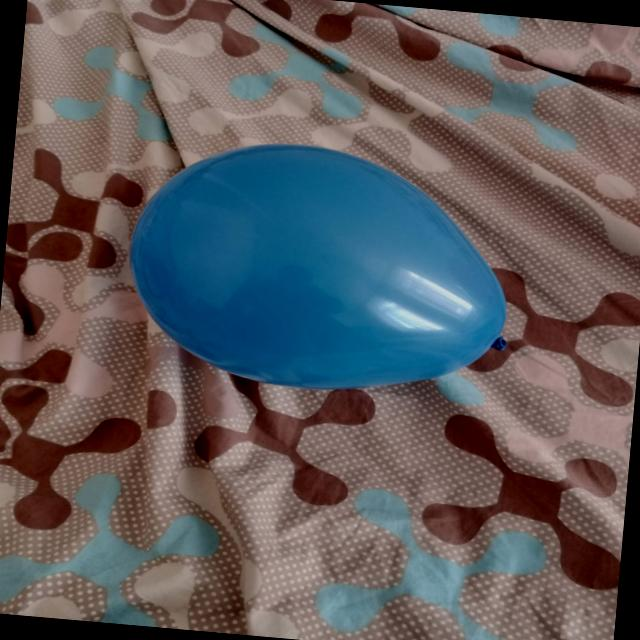balloon: (130, 144, 505, 389)
